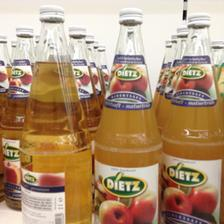Saft: (17, 5, 92, 222), (95, 5, 163, 222), (158, 13, 222, 220)
